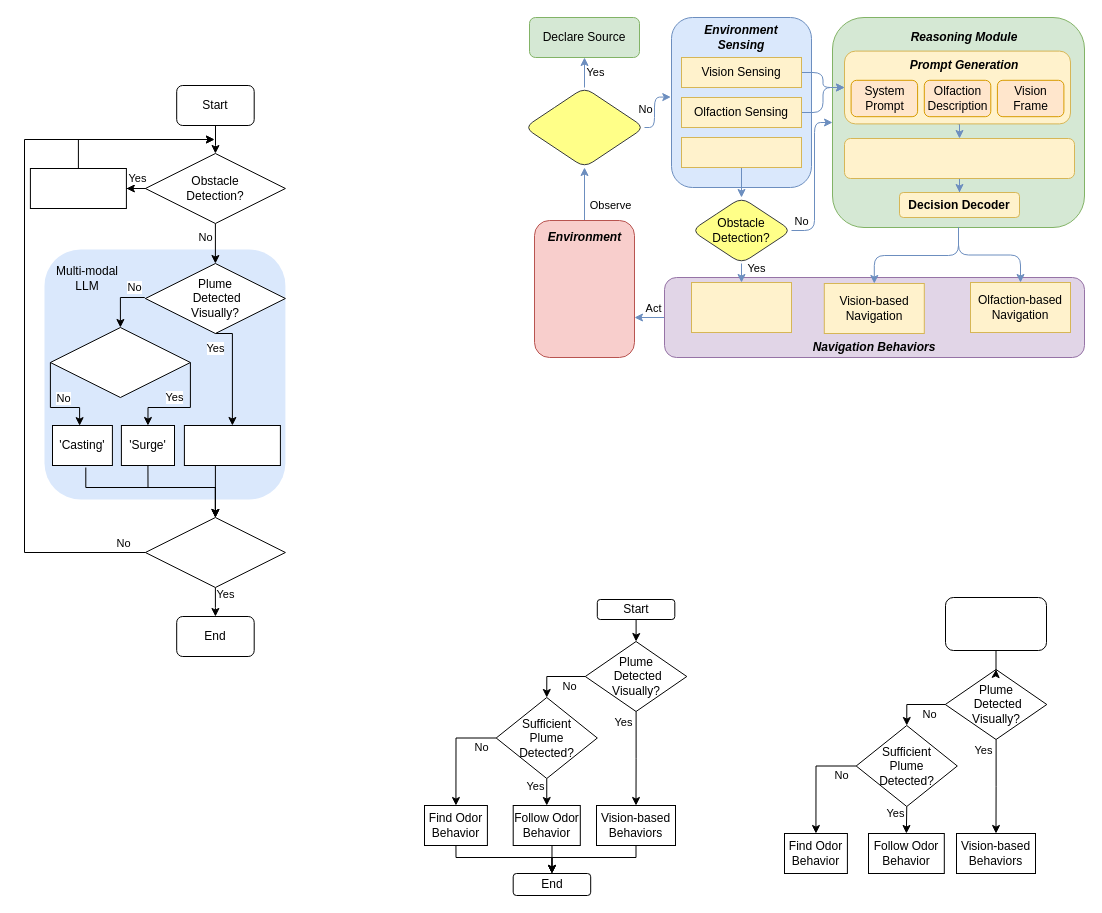
The diagram is 1102 pixels wide and 913 high, and some of its shapes have lost their labels. Each missing label, with the centre of its shape:
Chemical Concentration and Visual Frame: (995,623)
Distance Sensing: (741,152)
Multimodal LLM With chain-of-thought: (959,158)
Obstacle-Avoid: (77,188)
Obstacle-Avoid Navigation: (741,307)
Plume Chemical Detected?: (119,362)
Source Confirmation?: (584,127)
Source Conformation?: (214,552)
Vision-based Actions (1-3): (231,445)
